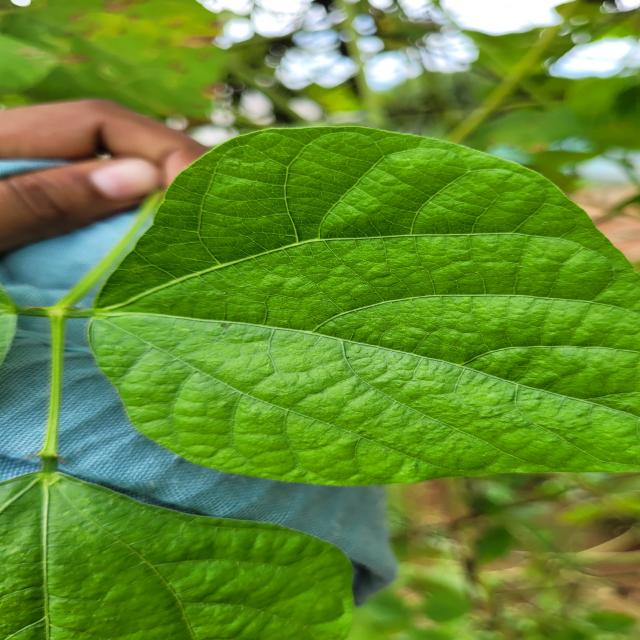Dolicos bean_healthy: (96, 129, 640, 486), (0, 457, 355, 640)
